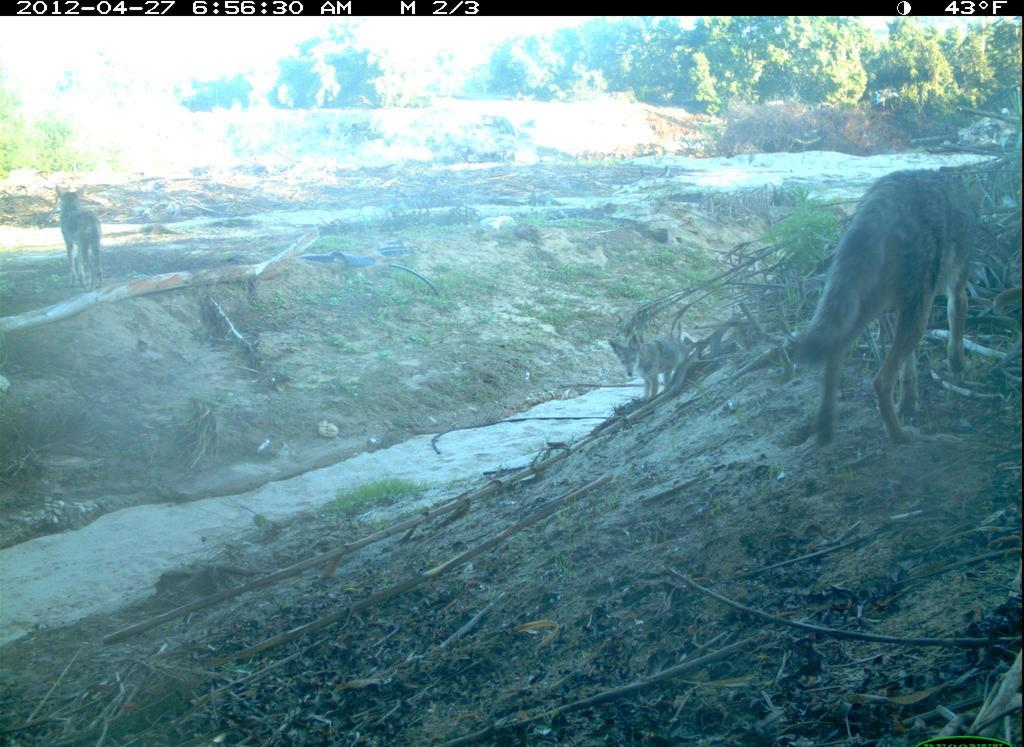coyote: (783, 157, 996, 447), (31, 181, 120, 290)
